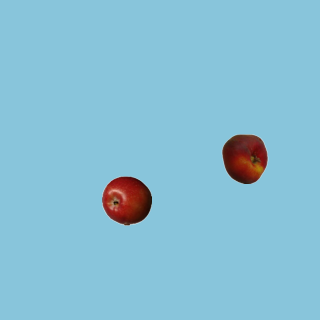Apple Braeburn: (101, 175, 151, 225)
Nectarine Flat: (219, 133, 269, 183)
